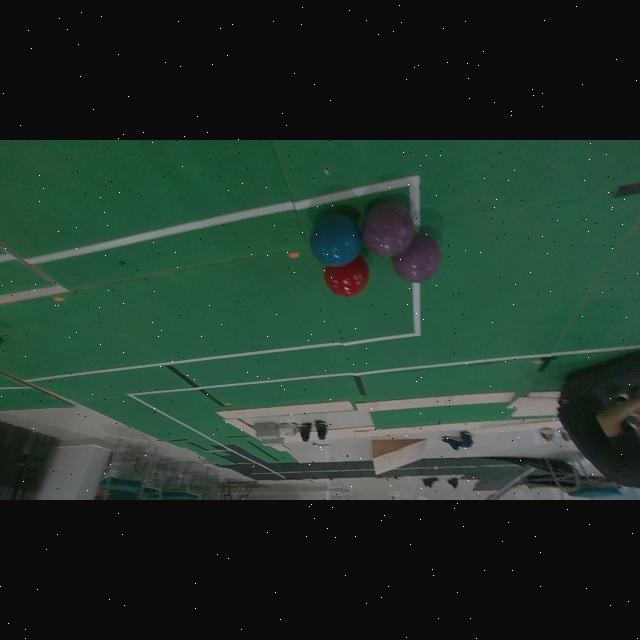B: (310, 213, 362, 267)
P: (362, 202, 416, 256), (392, 233, 441, 283)
R: (324, 255, 370, 297)
